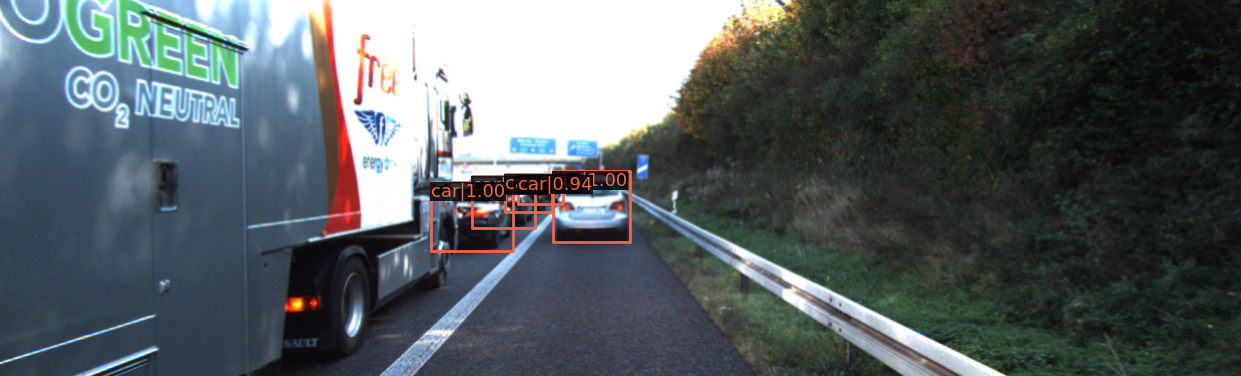car: (412, 187, 513, 252), (554, 174, 629, 242), (467, 179, 534, 228), (498, 175, 548, 217)
